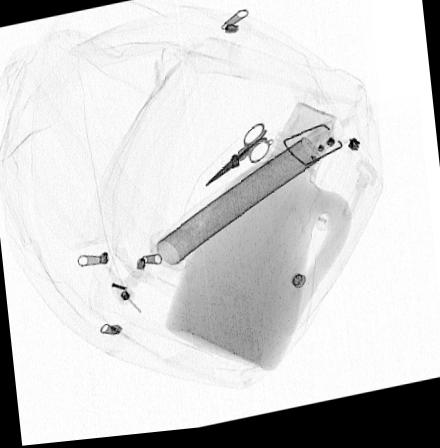Scissors: (203, 126, 277, 190)
